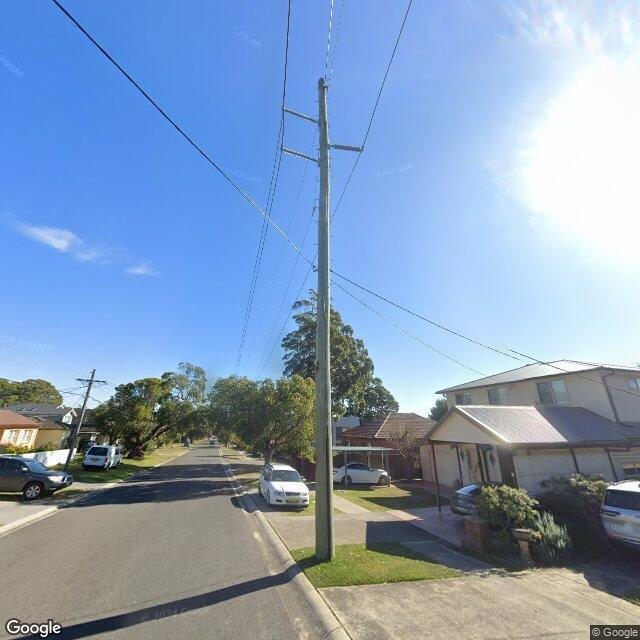HV-transmission: (282, 84, 364, 166)
crossarm: (75, 378, 109, 387)
timber-pole: (315, 78, 333, 563), (63, 370, 96, 472)
